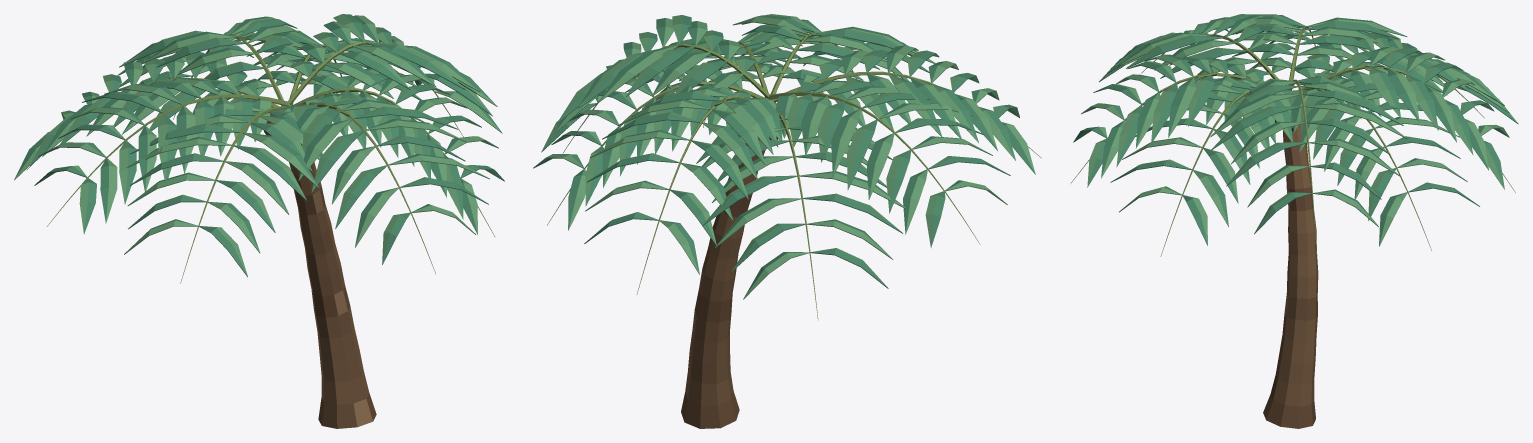
Rendered from palm-b.glb.
The picture shows the model from 3 angles, left to right: view 1: azimuth 30°, elevation 25°; view 2: azimuth 150°, elevation 25°; view 3: azimuth 270°, elevation 25°; orthographic projection. The views are drawn at different scales.
Visible parts, largest first — view 1: palm-b; view 2: palm-b; view 3: palm-b.
Boxes of the visible parts, x1,y1,x2,y2 form: palm-b: (14,14,504,428); palm-b: (533,14,1041,428); palm-b: (1070,14,1518,428).
Size of the model in its own units: 4.65 by 3.98 by 4.7.
